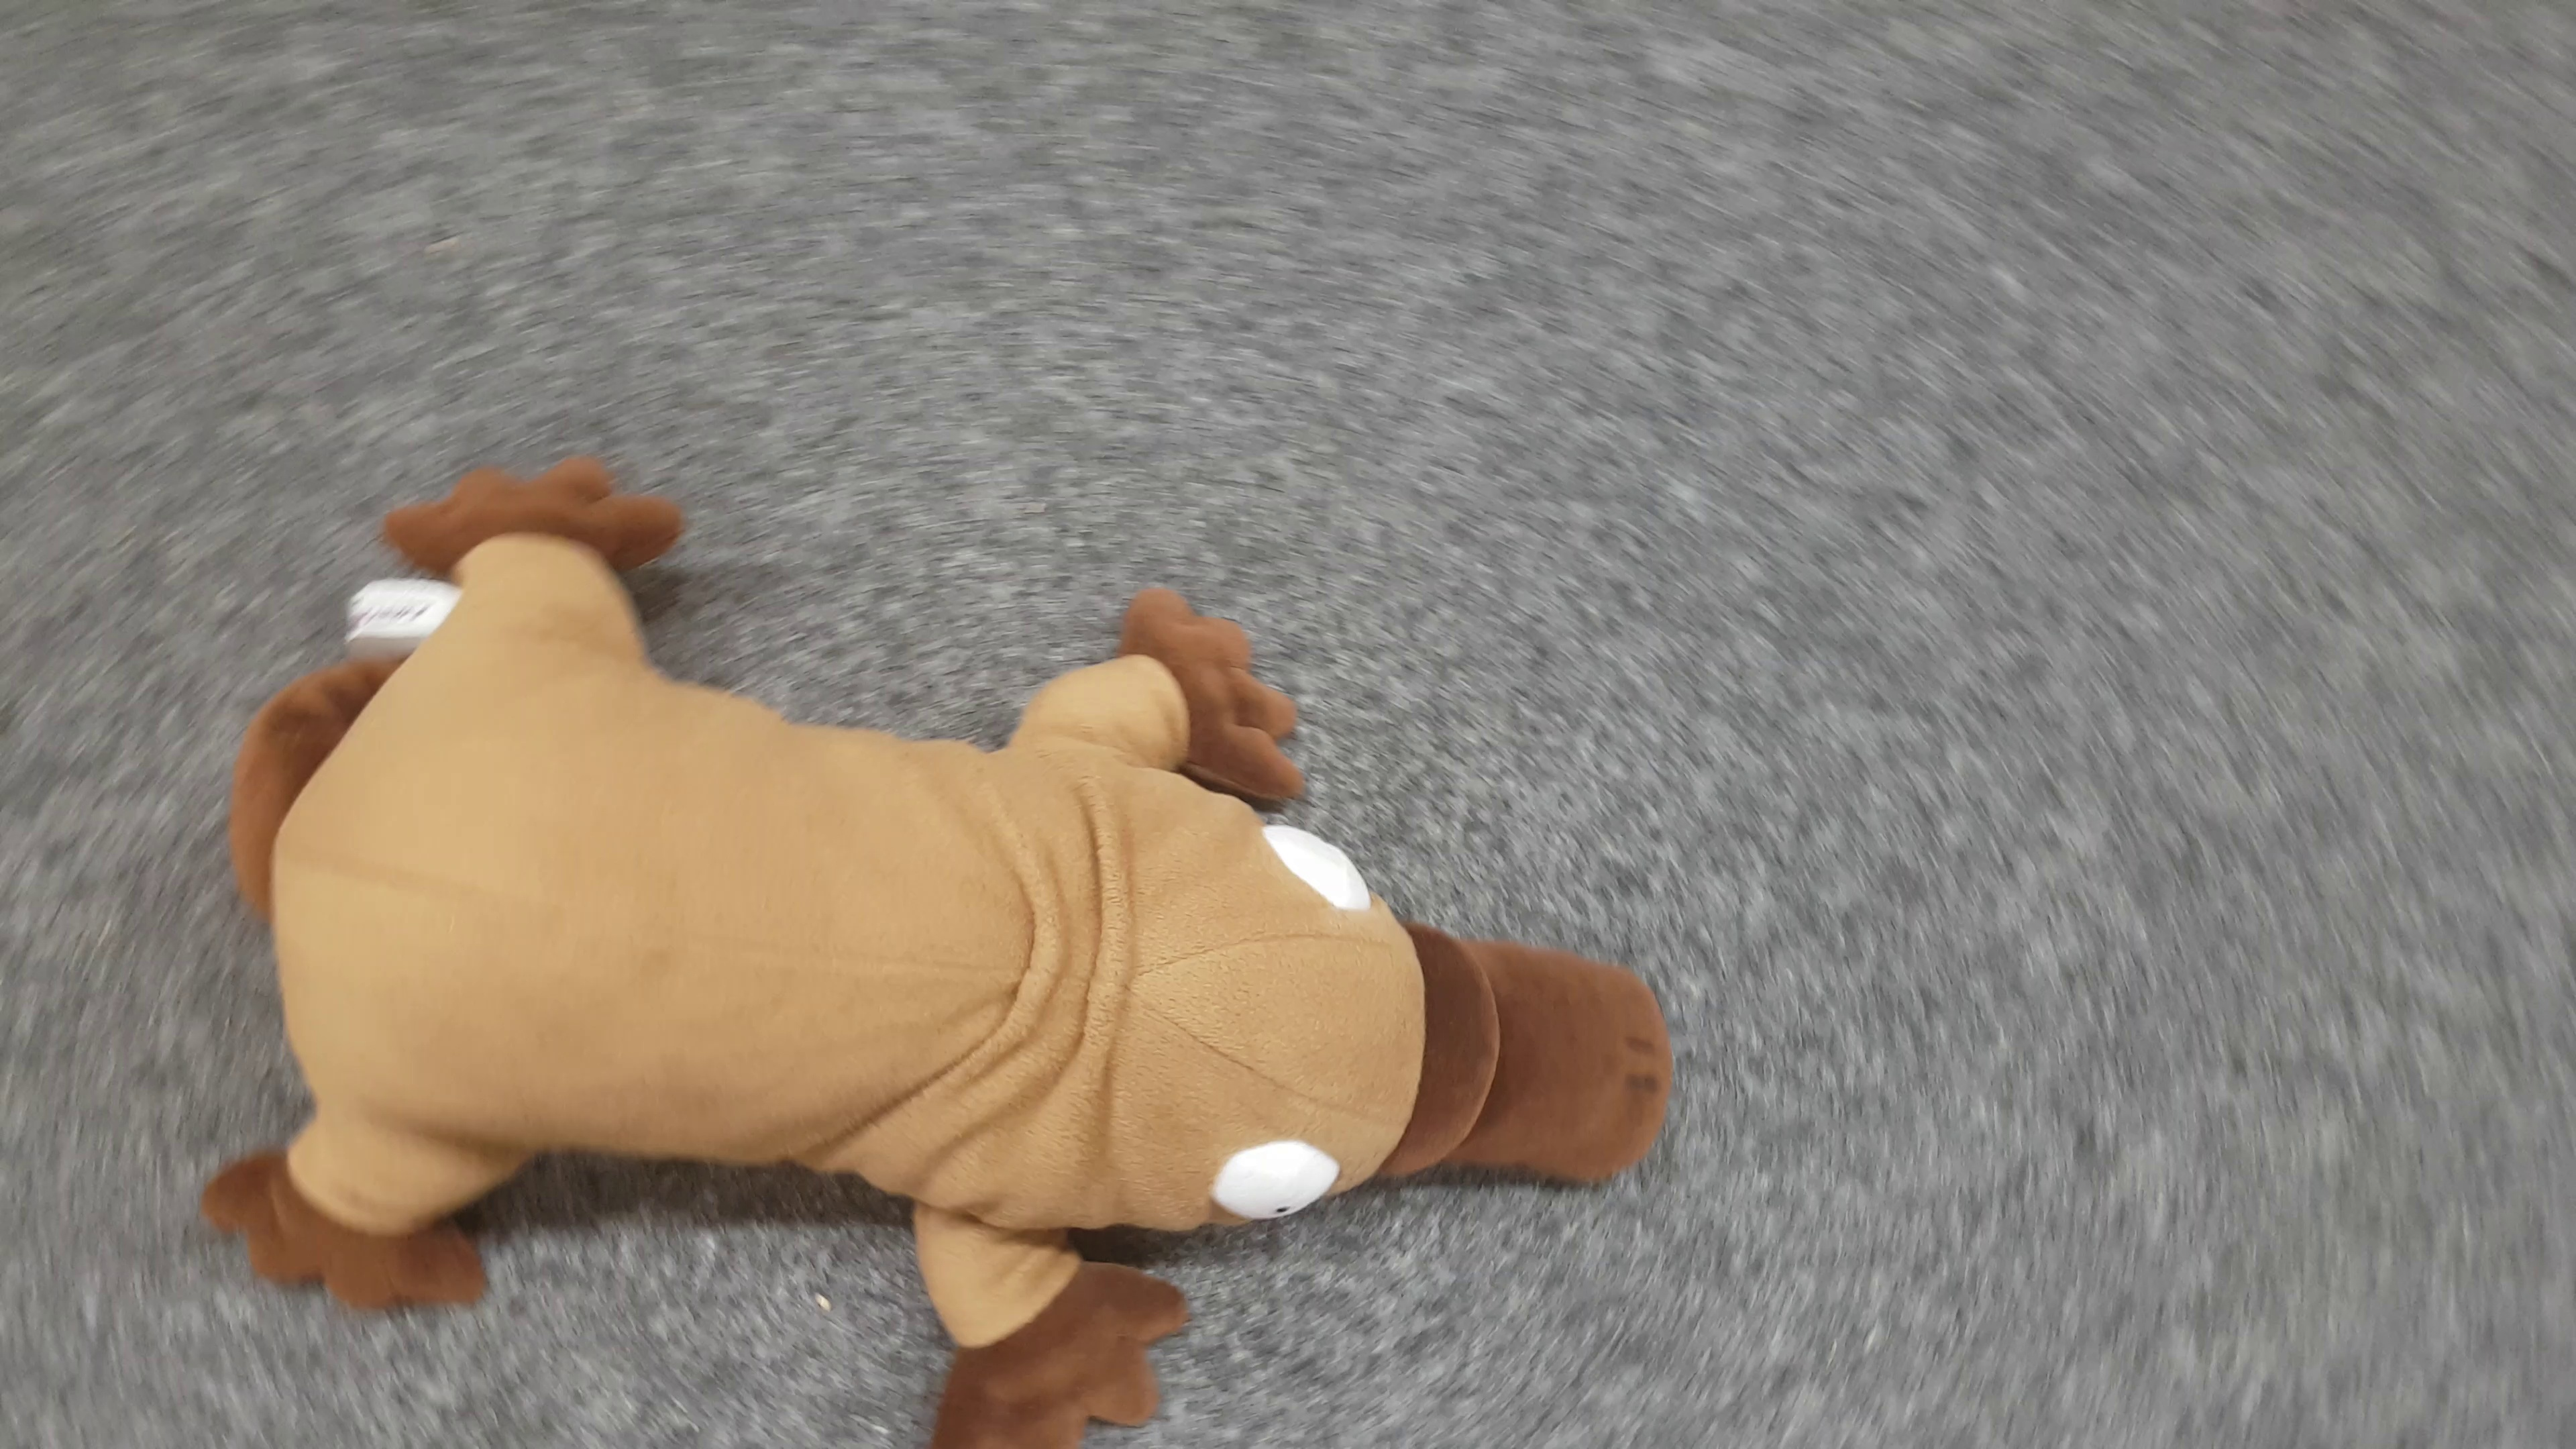grasp: (196, 446, 1677, 1449)
